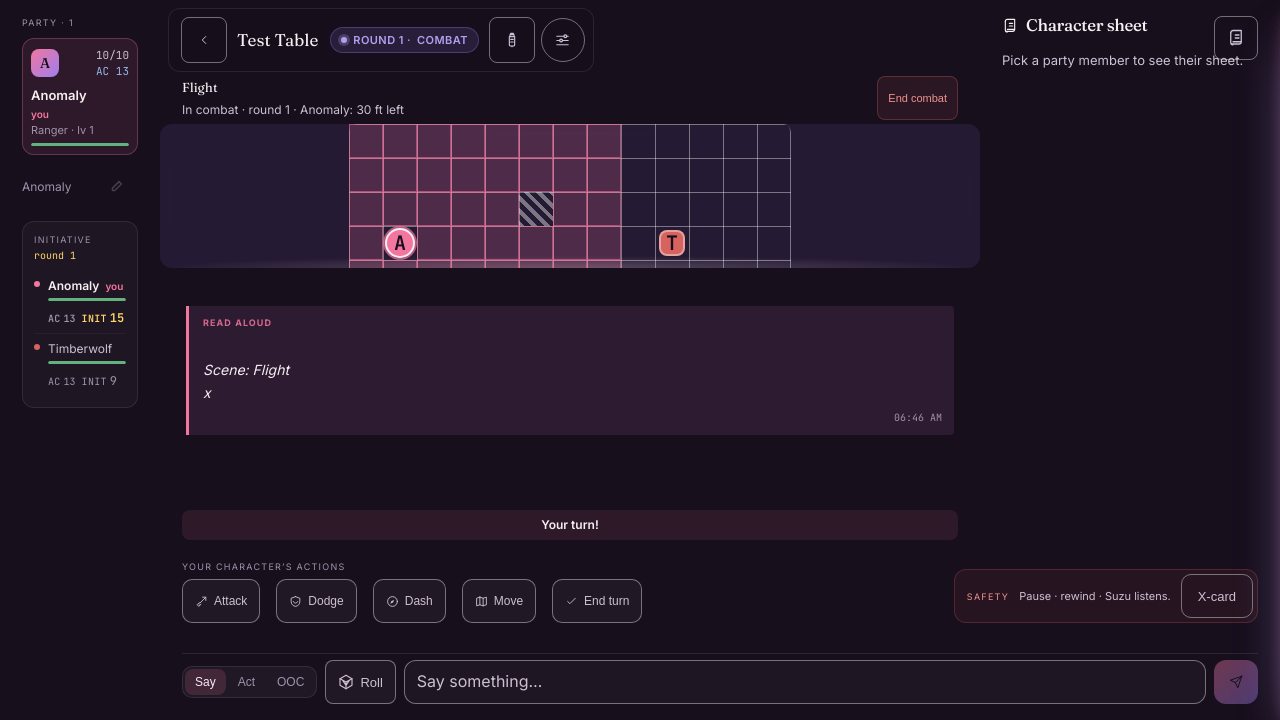
it: refusals: the copy in the action bar's alert, never re-sent, and where focus and Move end up › 409 position_changed: the state is applied (the token redrawn), focus STAYS on the square the user was on, Move is still armed, and nothing is re-sent
Expected: the text "Test Table" is shown, [237, 27, 318, 53]
Expected: the cell named "Row 1, column 1. Empty." is shown, [349, 124, 383, 158]
Click the button "Move" at (499, 601), box [462, 579, 536, 623]
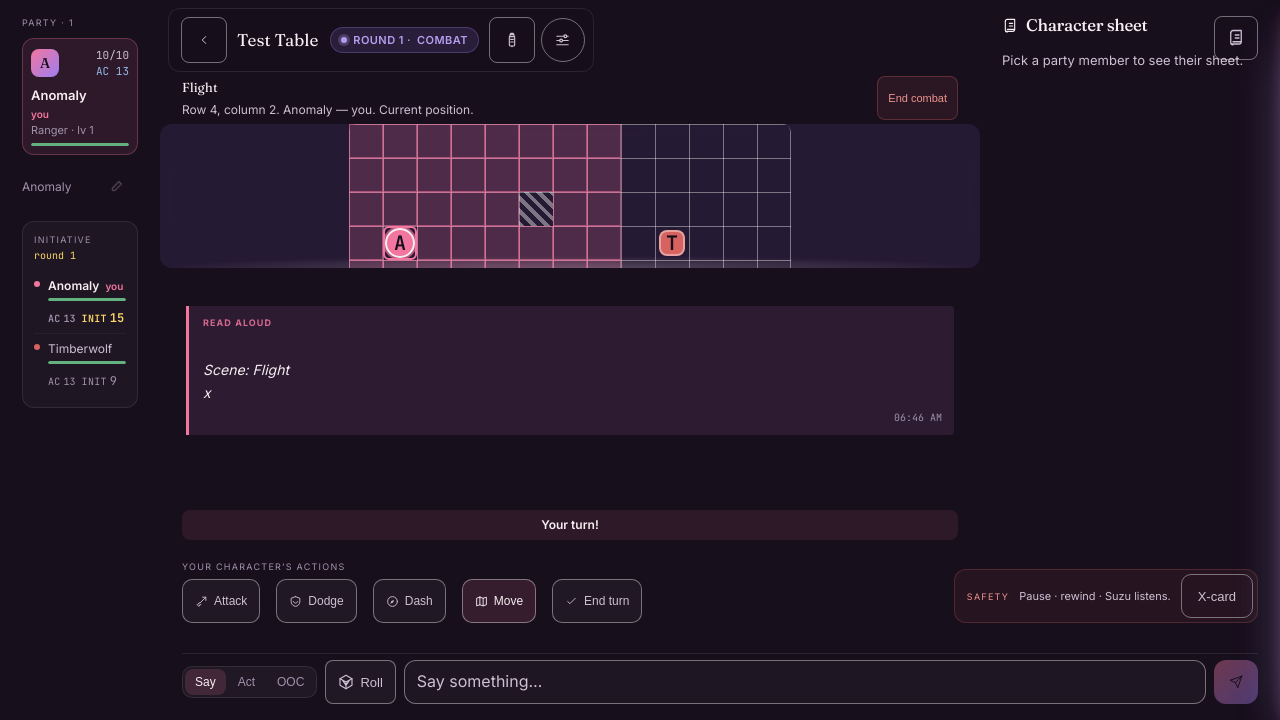
Press ArrowRight in the cell "A", box [387, 230, 413, 256]
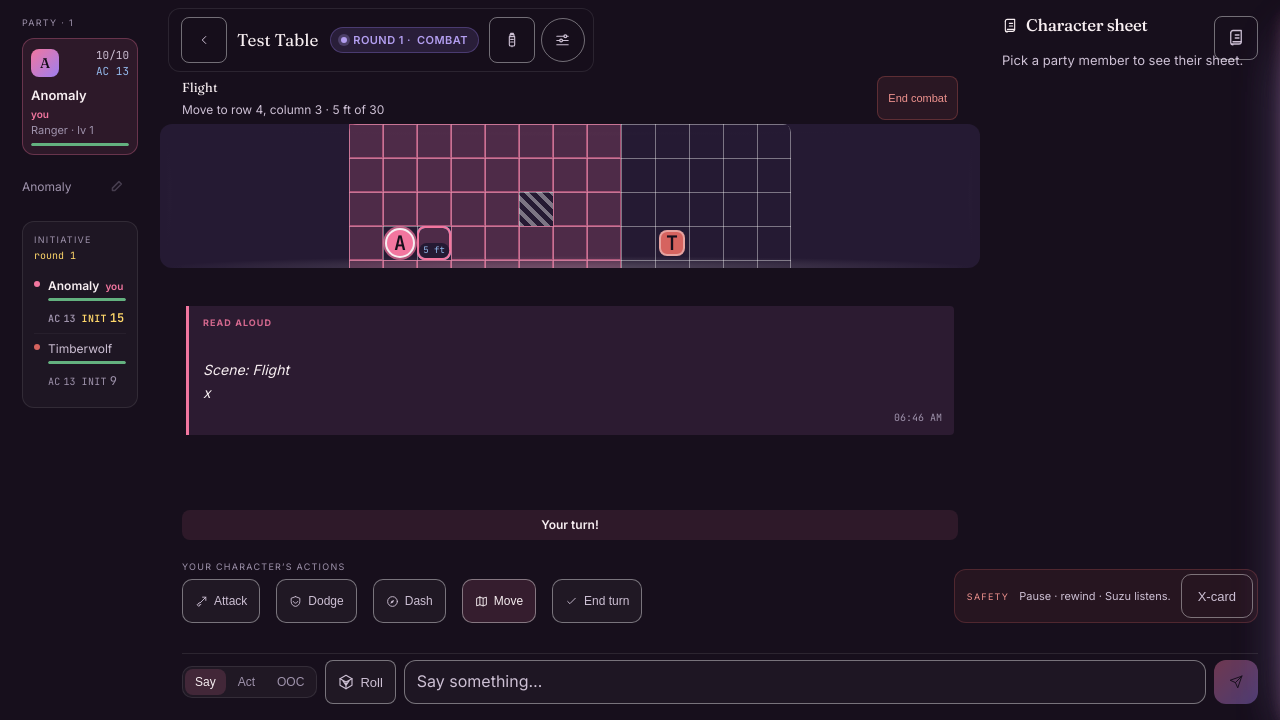
Press Enter in the cell "5 ft", box [417, 226, 451, 260]
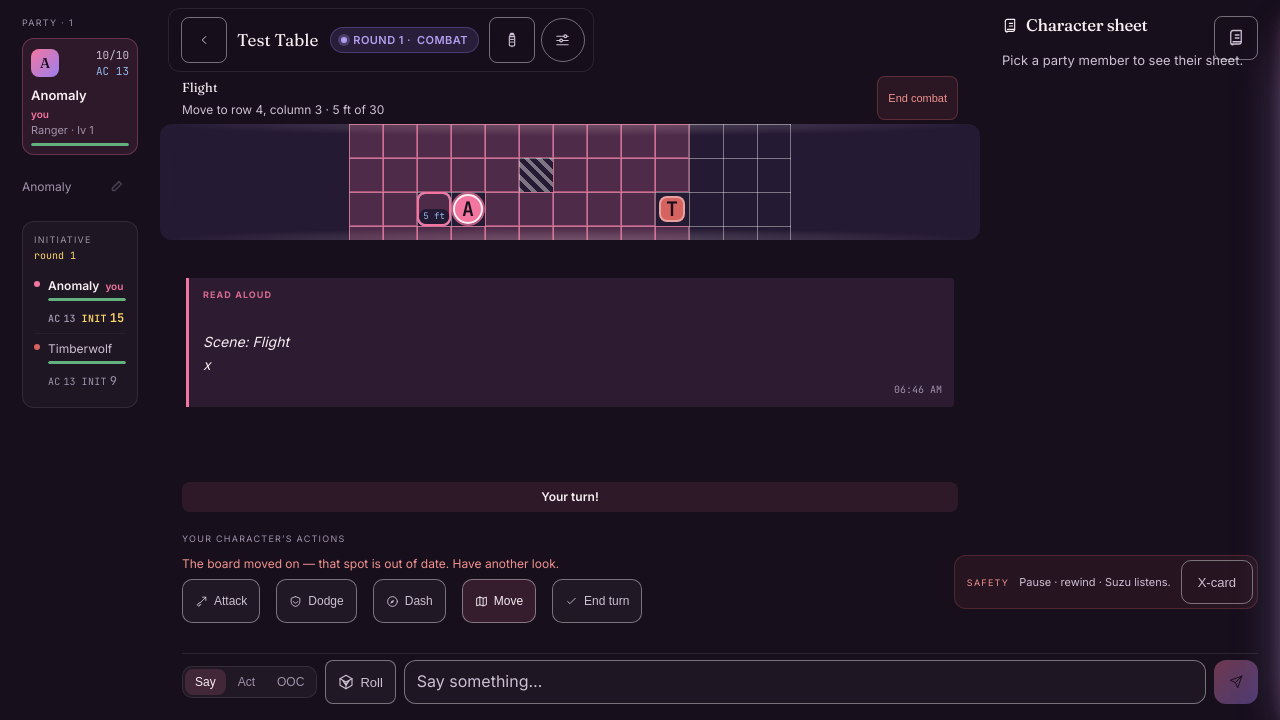
Result: the message "The board moved on — that spot is out of date. Have another look." is shown at [182, 556, 559, 571]
